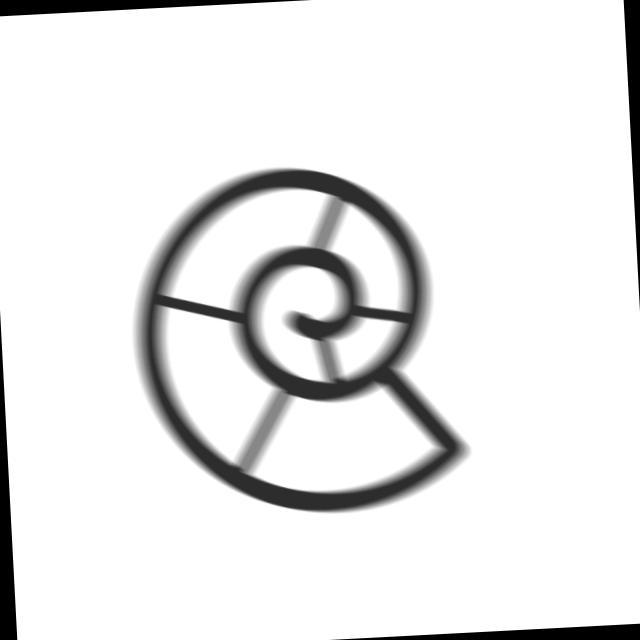fossil: (119, 153, 477, 532)
